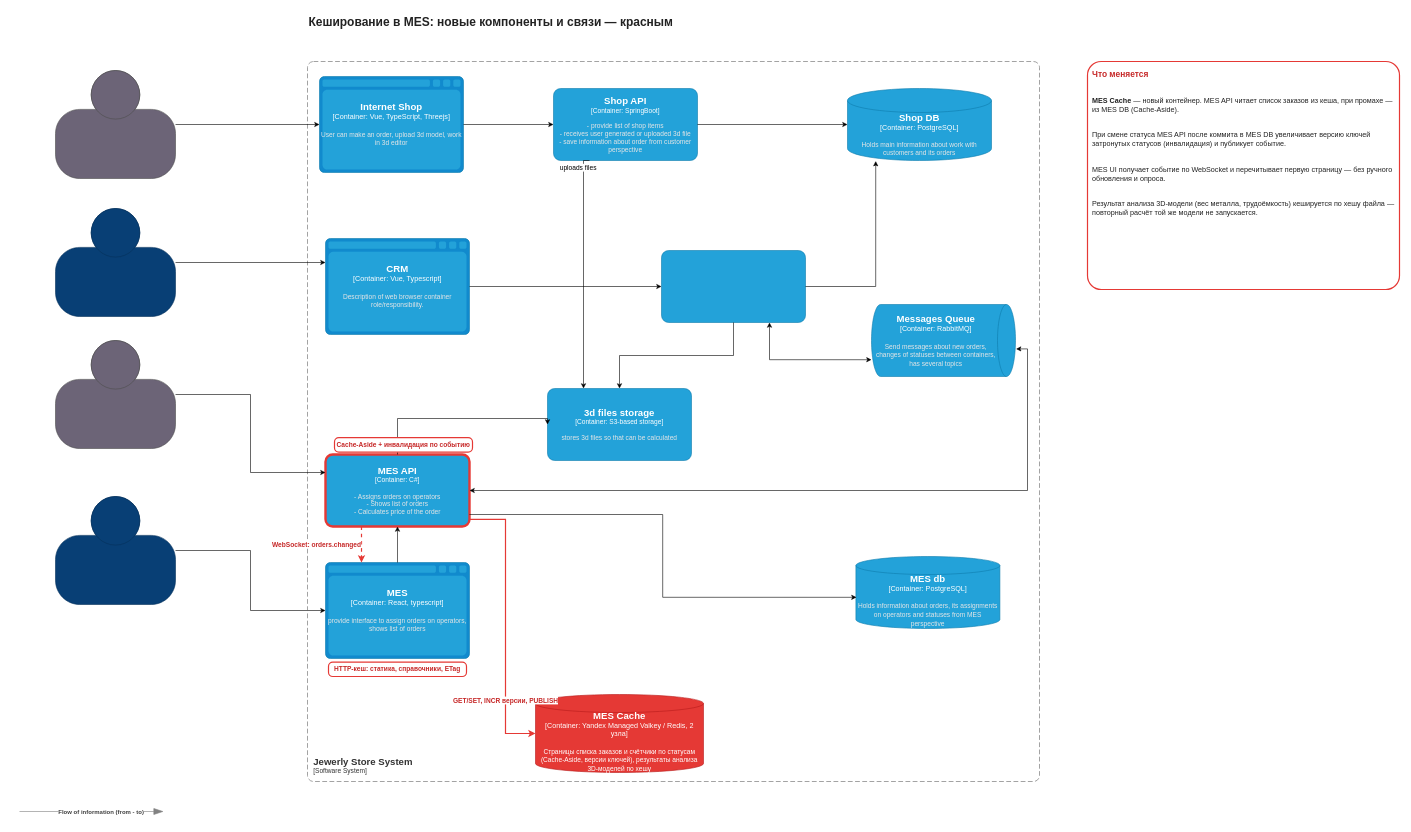
Image size: 1411x832. Some labels were removed from this diagram. Here are the shapes that lost their labels. From the top down, the centre of each, then its label:
the point at 115,124: Customer [Person] Description of external person.
the point at 115,262: Seller [Person] Operates with order, confirms manufacturing for the user
the point at 733,286: CRM API [Container: SpringBoot] Description of container role/responsibility.
the point at 115,394: API user [Person] Description of external person.
the point at 115,550: Operator [Person] Takes order in work, manufactures jewerly
